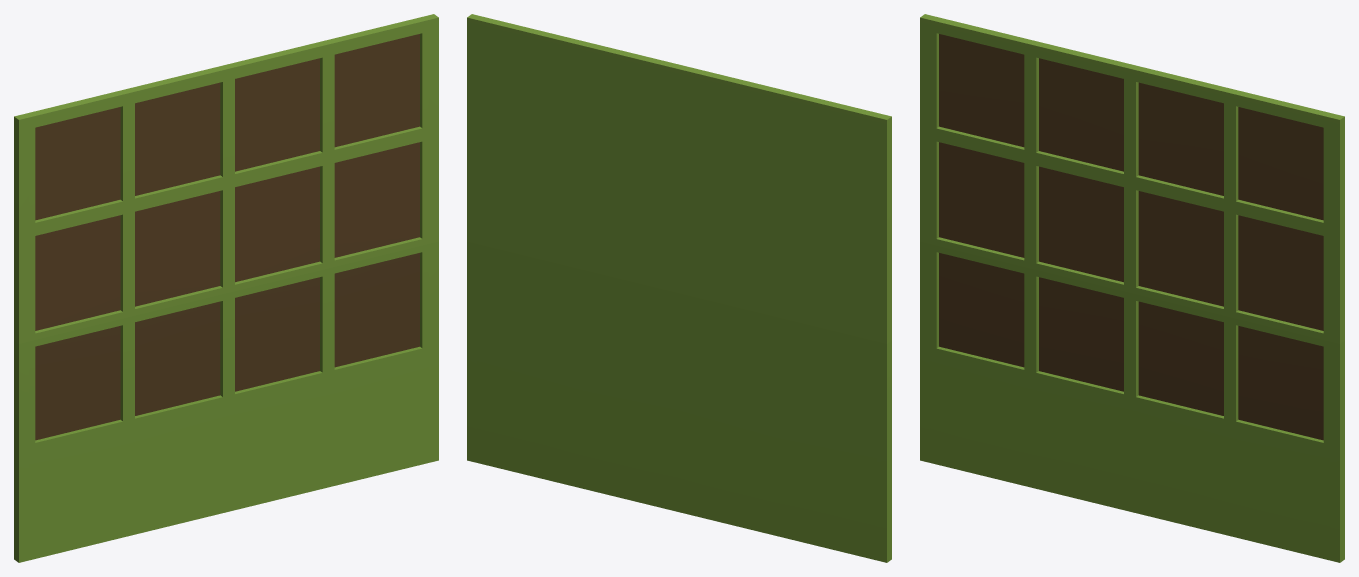
The model's file is FireStation_01_2.fbx.
The picture shows the model from 3 angles, left to right: view 1: azimuth 30°, elevation 25°; view 2: azimuth 150°, elevation 25°; view 3: azimuth 330°, elevation 25°; orthographic projection.
Parts seen in each view (by area): view 1: FireStation_02; view 2: FireStation_02; view 3: FireStation_02.
Part boxes in pixels (x1,y1,x2,y2): FireStation_02: (14,14,438,562); FireStation_02: (467,14,891,562); FireStation_02: (920,14,1344,562).
Bounding box in the file's own units: 2.51 × 2.53 × 0.05.
